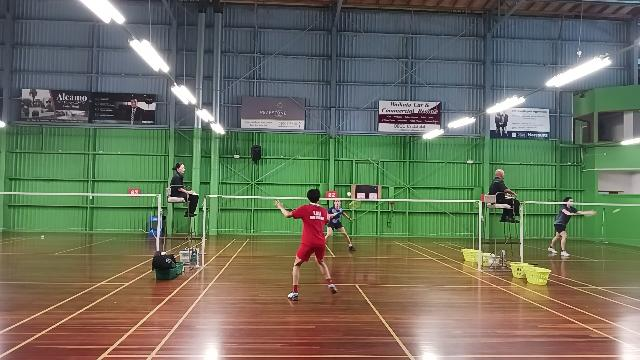Shuttlecock: (346, 190, 354, 197)
